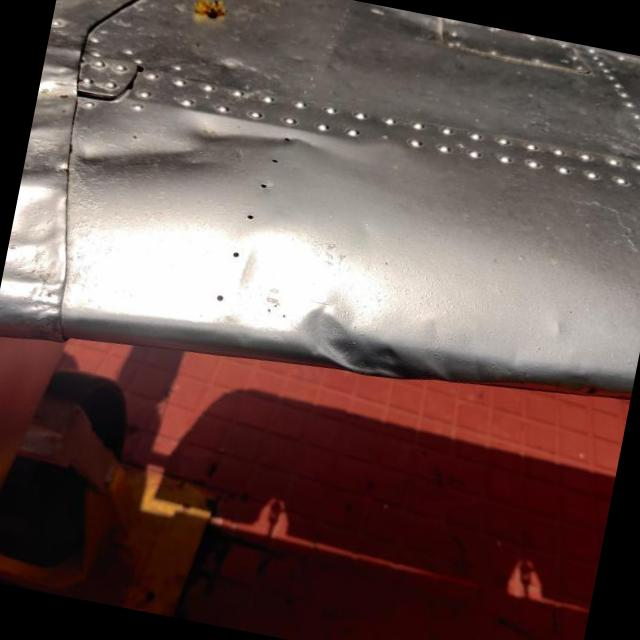Dent: (72, 91, 307, 195), (301, 294, 447, 379)
